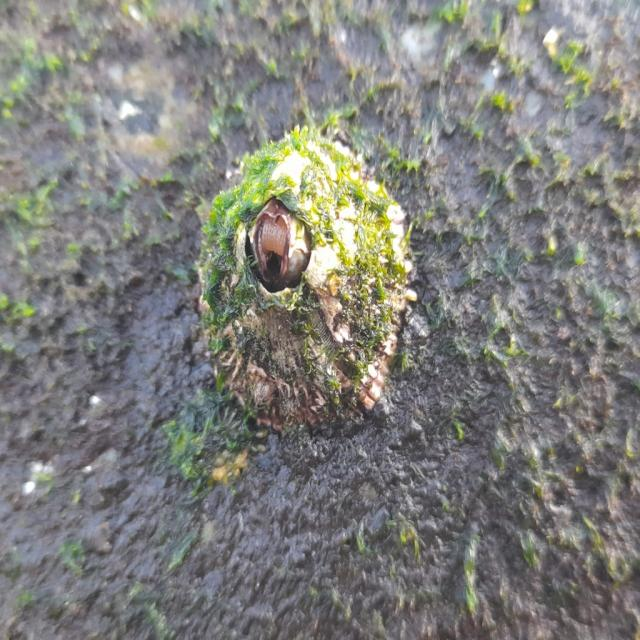barnacles: (178, 125, 408, 432)
